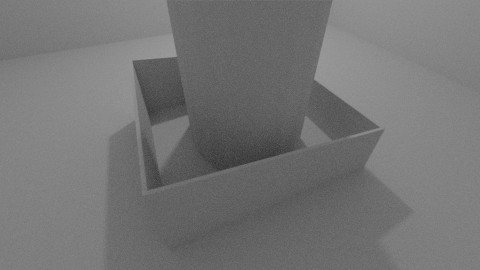cheminee: (166, 1, 333, 181)
eaf: (147, 128, 380, 245)
